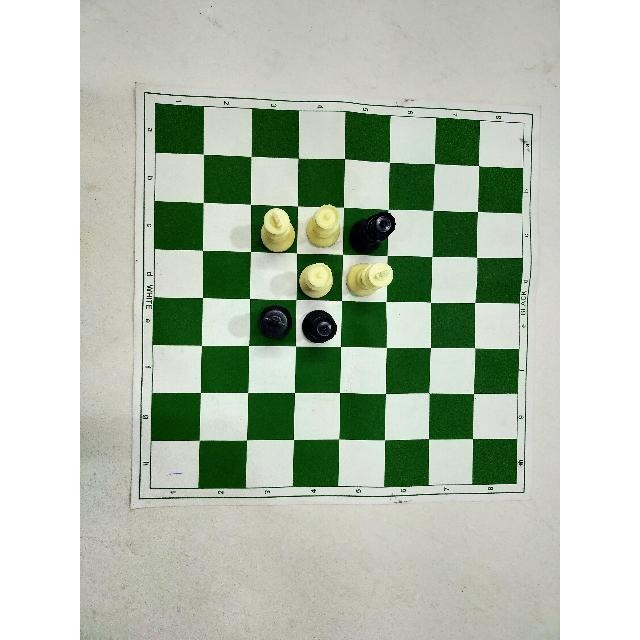black-king: (253, 304, 295, 348), (253, 304, 295, 346)
black-queen: (347, 203, 396, 251), (348, 210, 396, 253), (299, 307, 339, 347), (302, 309, 338, 344)
white-king: (343, 256, 398, 300), (345, 256, 397, 300), (255, 203, 296, 257), (258, 207, 302, 253)
white-queen: (305, 202, 347, 254), (306, 202, 342, 247), (296, 259, 336, 298), (298, 262, 334, 298)
